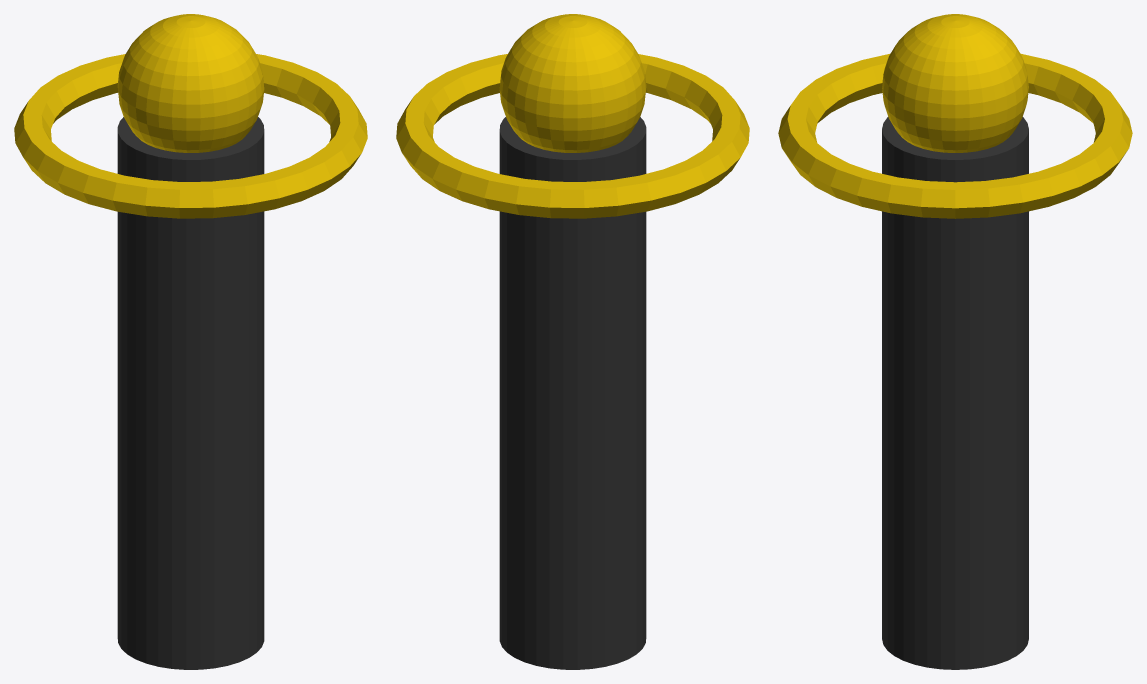
File: tower.glb
3 views of the same model, side by side, from view 1: azimuth 30°, elevation 25°; view 2: azimuth 150°, elevation 25°; view 3: azimuth 270°, elevation 25° (orthographic).
Visible parts, largest first — view 1: Cylinder, Torus, Sphere; view 2: Cylinder, Torus, Sphere; view 3: Cylinder, Torus, Sphere.
Boxes of the visible parts, bbox=[...] form: Cylinder: bbox=[117, 117, 264, 669]; Torus: bbox=[14, 54, 367, 218]; Sphere: bbox=[117, 14, 264, 152]; Cylinder: bbox=[499, 117, 646, 669]; Torus: bbox=[396, 54, 749, 218]; Sphere: bbox=[499, 14, 646, 152]; Cylinder: bbox=[882, 117, 1028, 669]; Torus: bbox=[778, 54, 1132, 218]; Sphere: bbox=[882, 14, 1028, 152].
Bounding box in the file's own units: 4.82 × 9.28 × 4.82.
